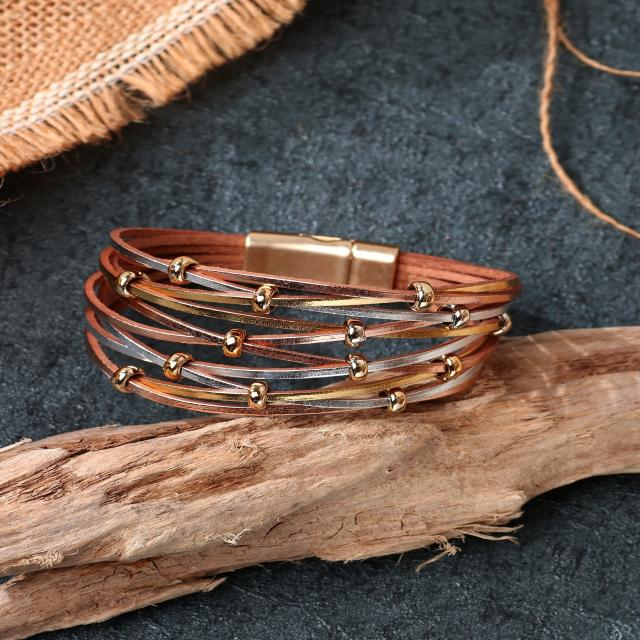bracelet: (0, 139, 640, 530)
